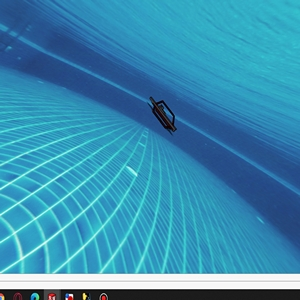submarine: (152, 97, 178, 136)
